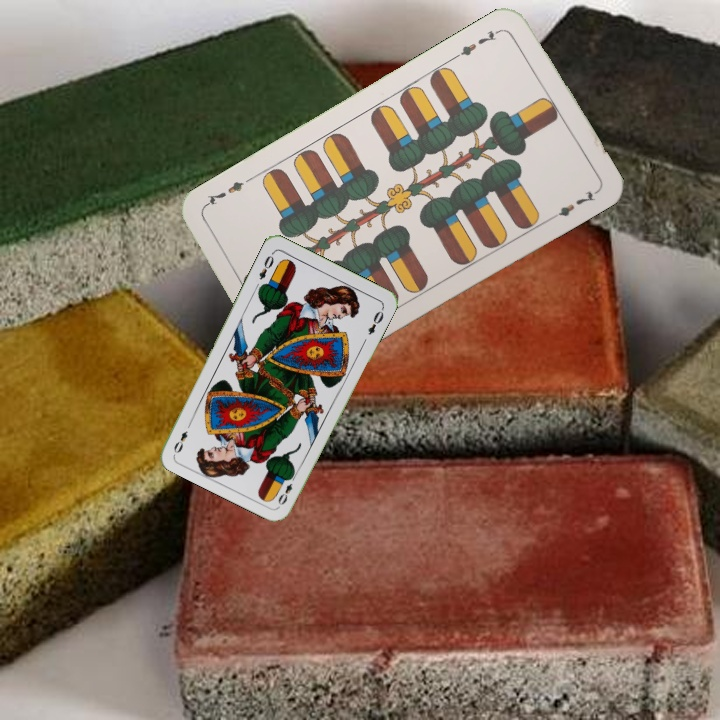E7: (451, 24, 505, 61)
EO: (274, 470, 299, 508), (255, 248, 276, 282)
